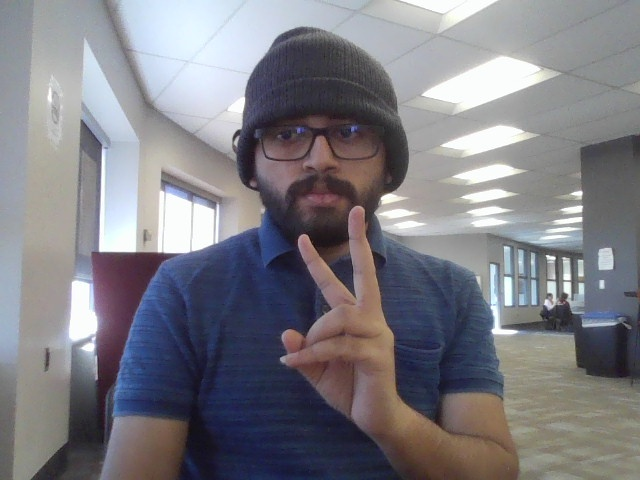start: (263, 204, 441, 441)
